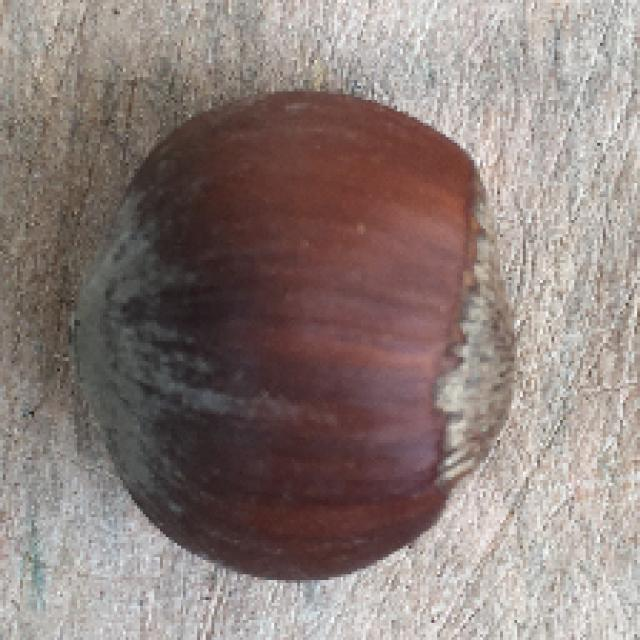damagedHazelnut: (73, 90, 525, 572)
